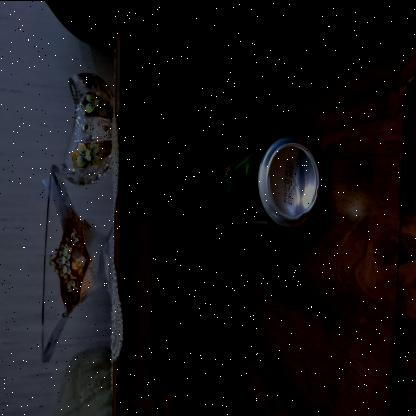Can: (216, 136, 320, 226)
